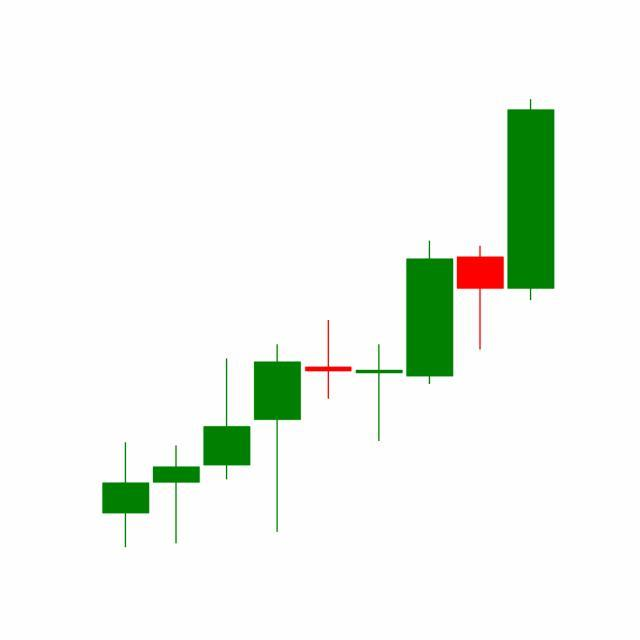Hikkake Pattern: (302, 99, 555, 446)
